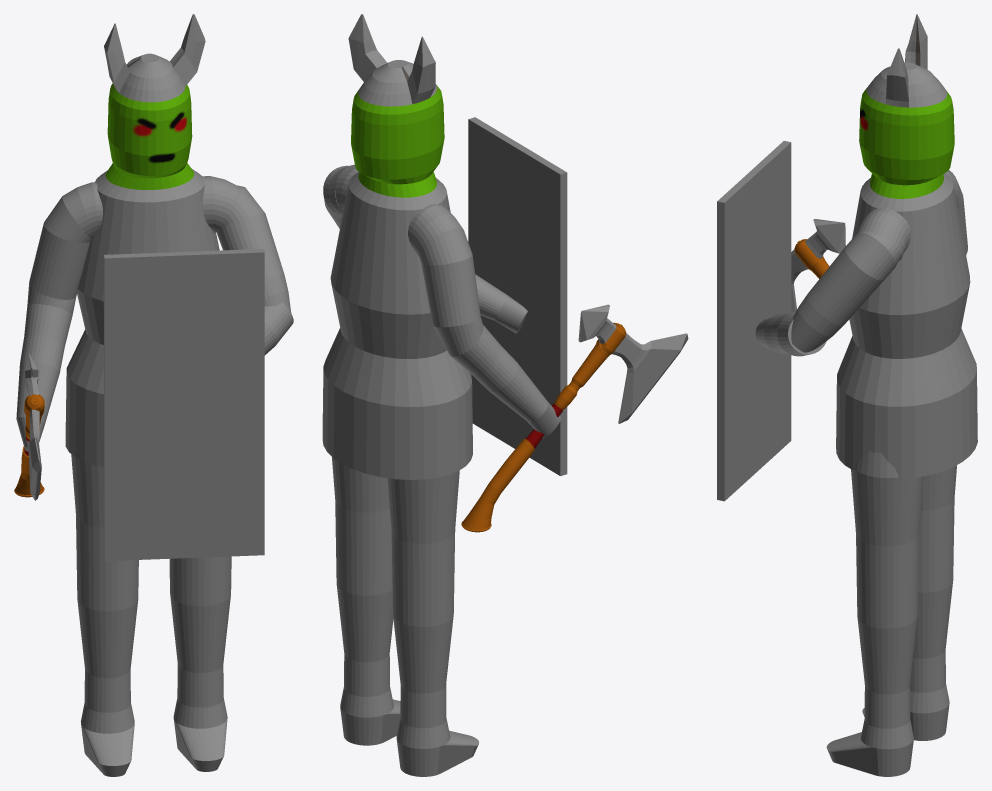
File: ОркРыцарь1.fbx
3 renders of one model, left to right at view 1: azimuth 30°, elevation 25°; view 2: azimuth 150°, elevation 25°; view 3: azimuth 270°, elevation 25°, orthographic.
Parts seen in each view (by area): view 1: Куб.023, Цилиндр.193, Цилиндр.093, Цилиндр.186, Цилиндр.185, Цилиндр.189, Цилиндр.190, Цилиндр.187, Цилиндр.184, Куб.022, Цилиндр.191, Цилиндр.192 (+1 smaller); view 2: Цилиндр.193, Куб.023, Цилиндр.185, Цилиндр.186, Куб.022, Цилиндр.093, Цилиндр.184, Цилиндр.189, Цилиндр.190, Цилиндр.188, Цилиндр.191, Цилиндр.192; view 3: Цилиндр.193, Куб.023, Цилиндр.184, Цилиндр.093, Цилиндр.187, Цилиндр.186, Цилиндр.185, Куб.022, Цилиндр.188, Цилиндр.192.
Part boxes in pixels (x1,y1,x2,y2): Куб.023: (104, 249, 264, 561); Цилиндр.193: (65, 14, 219, 467); Цилиндр.093: (170, 595, 230, 771); Цилиндр.186: (77, 600, 138, 776); Цилиндр.185: (71, 454, 138, 611); Цилиндр.189: (27, 196, 91, 315); Цилиндр.190: (16, 304, 72, 451); Цилиндр.187: (216, 185, 291, 312); Цилиндр.184: (169, 556, 231, 606); Куб.022: (14, 352, 44, 500); Цилиндр.191: (62, 182, 102, 238); Цилиндр.192: (202, 176, 238, 232); Цилиндр.193: (322, 14, 472, 479); Куб.023: (468, 117, 567, 475); Цилиндр.185: (387, 470, 459, 626); Цилиндр.186: (393, 615, 479, 776); Куб.022: (461, 304, 688, 532); Цилиндр.093: (336, 584, 400, 745); Цилиндр.184: (332, 457, 392, 595); Цилиндр.189: (418, 227, 483, 356); Цилиндр.190: (451, 324, 561, 437); Цилиндр.188: (475, 274, 527, 333); Цилиндр.191: (408, 204, 462, 255); Цилиндр.192: (329, 164, 358, 214); Цилиндр.193: (836, 14, 977, 478); Куб.023: (717, 141, 791, 501); Цилиндр.184: (851, 450, 923, 628); Цилиндр.093: (826, 616, 917, 776); Цилиндр.187: (791, 231, 904, 352); Цилиндр.186: (862, 582, 952, 740); Цилиндр.185: (918, 465, 956, 592); Куб.022: (791, 219, 845, 312); Цилиндр.188: (755, 311, 826, 356); Цилиндр.192: (856, 207, 910, 260).
Size of the model in its own units: 50.29 by 120 by 39.29.
